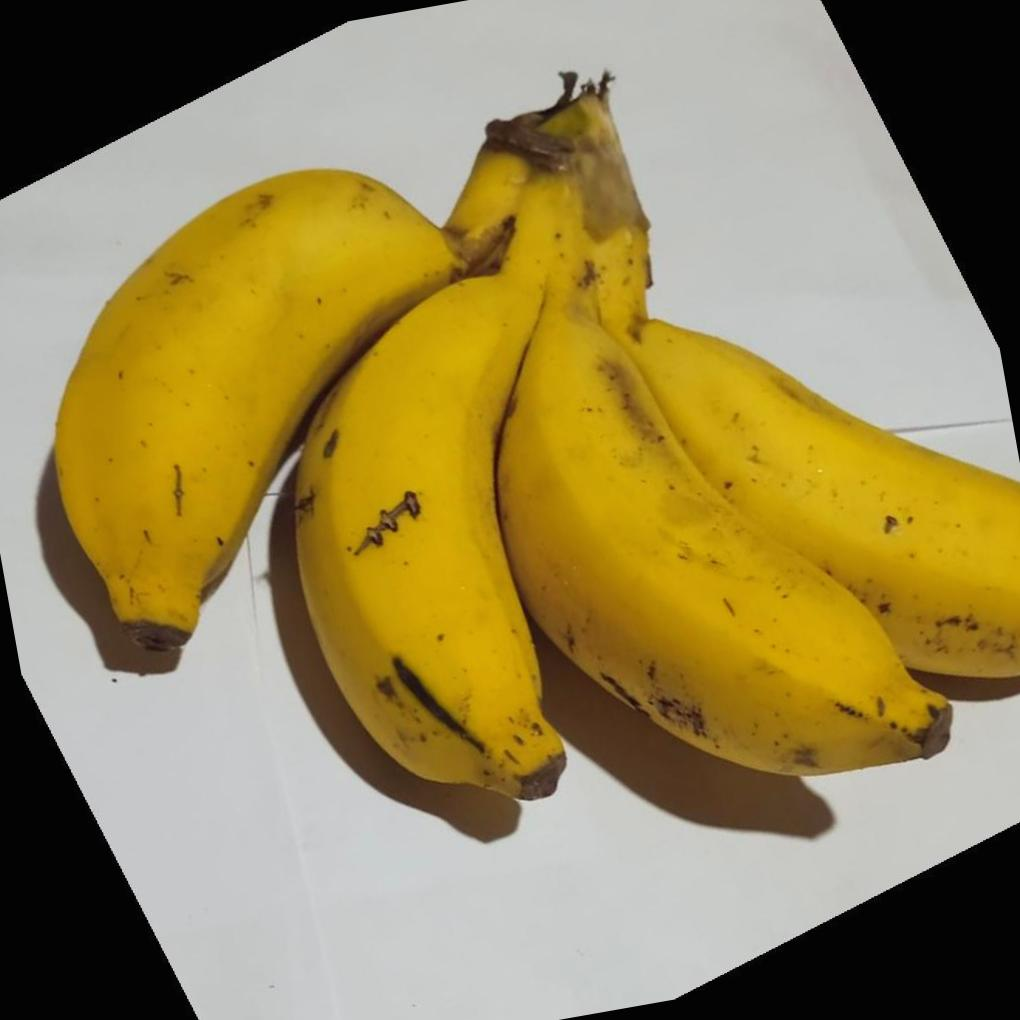Banana Ripe: (22, 68, 1020, 1020), (500, 225, 991, 895), (0, 88, 550, 662), (605, 137, 1020, 819), (207, 213, 634, 853)
